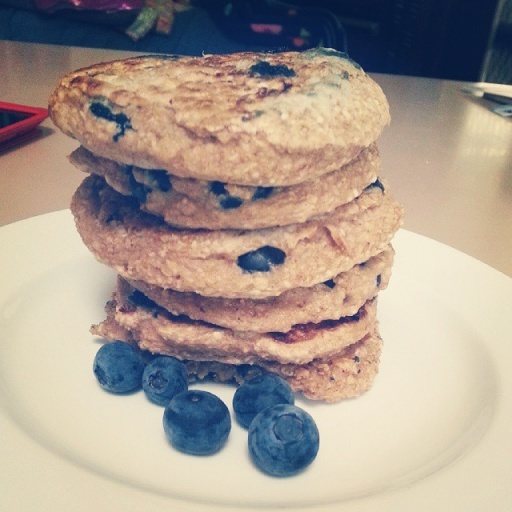background: (38, 37, 324, 382)
